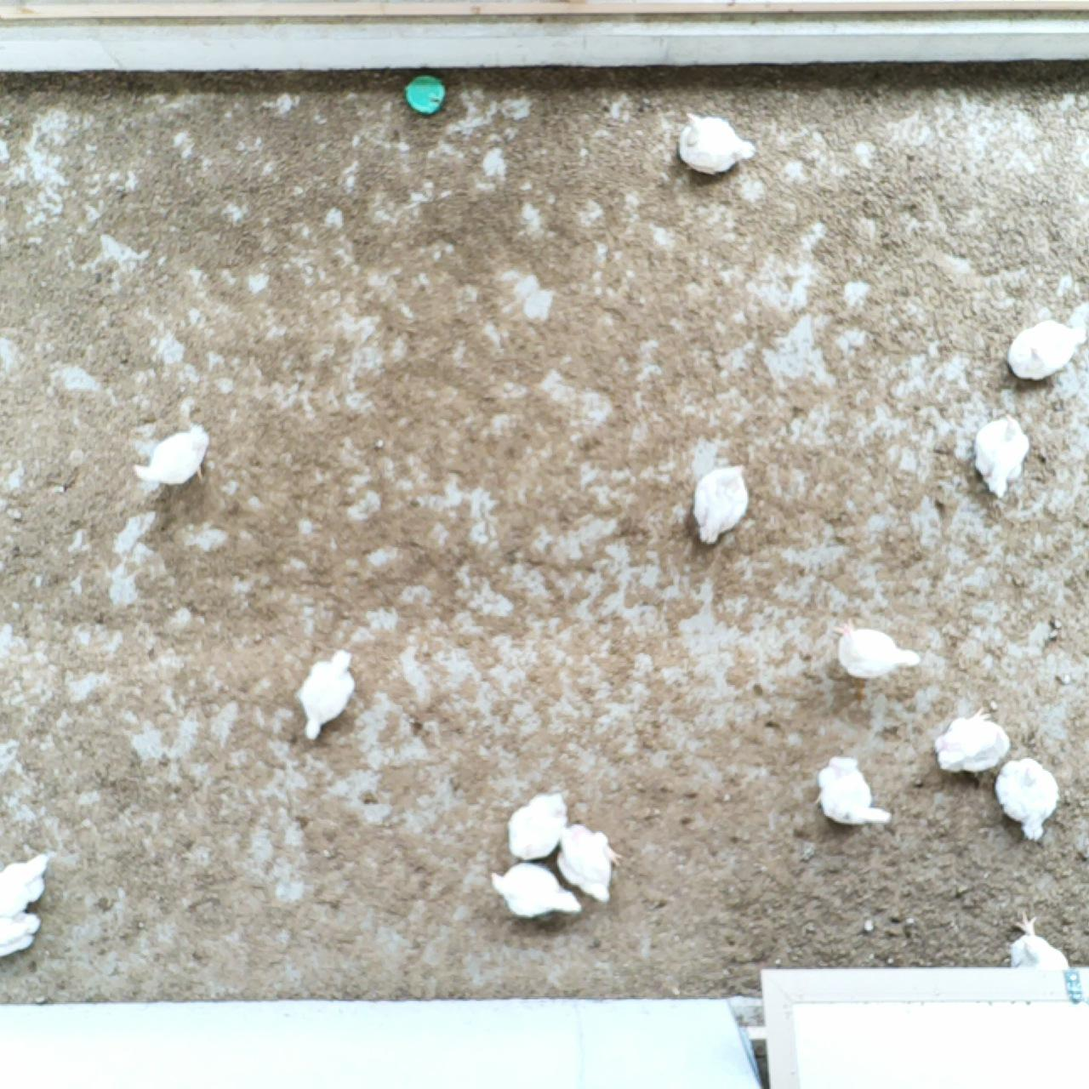chicken: (833, 614, 925, 687), (811, 751, 896, 830), (668, 105, 757, 178), (993, 755, 1061, 844), (296, 647, 359, 743), (488, 861, 583, 924), (932, 704, 1012, 777), (559, 821, 624, 908), (1004, 316, 1089, 382), (688, 461, 751, 550), (971, 411, 1033, 501), (133, 421, 214, 489), (505, 789, 570, 862), (1007, 907, 1072, 972), (0, 851, 52, 915), (0, 908, 45, 958)
